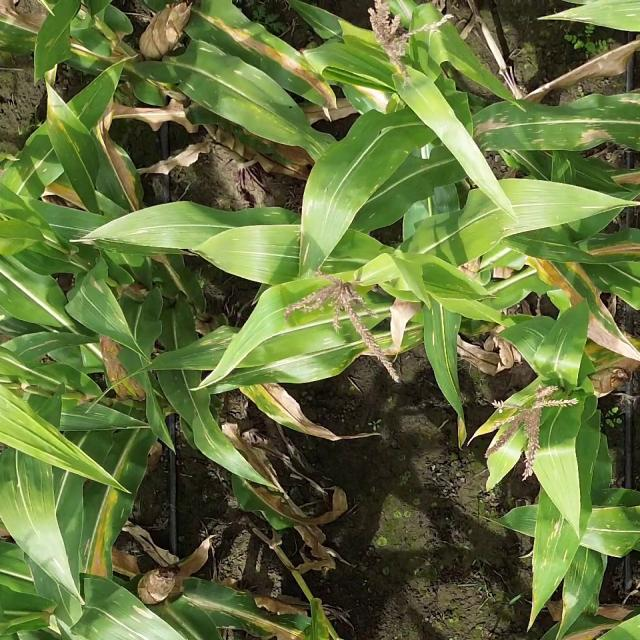gray-leaf-spot: (482, 111, 640, 146), (302, 192, 351, 263), (95, 594, 153, 640), (538, 510, 570, 583), (354, 329, 426, 359), (572, 563, 602, 616), (200, 325, 236, 354)
northern-leaf-blight: (202, 12, 337, 112), (186, 588, 296, 630), (92, 494, 124, 580), (100, 145, 143, 208), (586, 237, 640, 267)
southern-leaf-blight: (1, 24, 43, 61)
